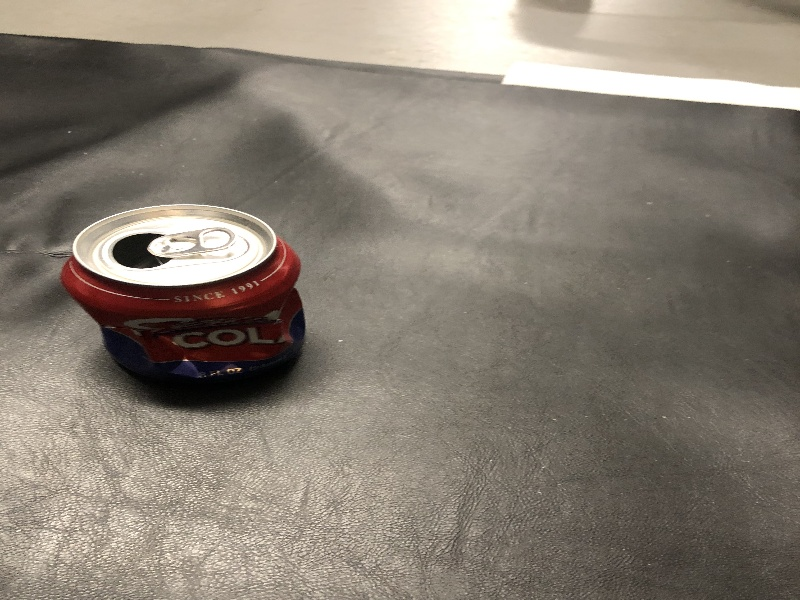metal: (55, 192, 323, 399)
